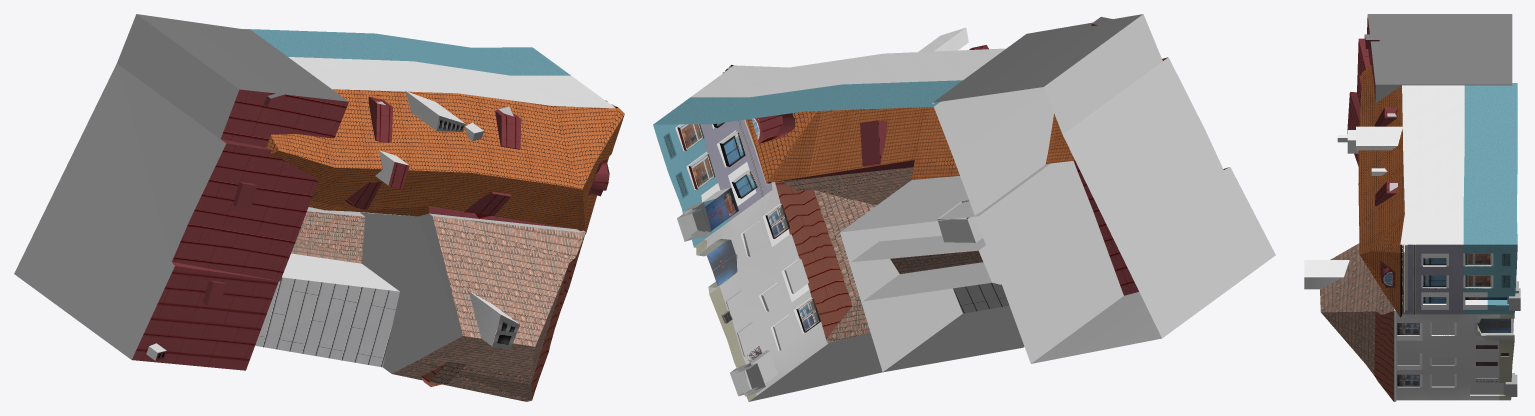
Rendered from Rataskaevu_10-origo.obj.
3 renders of one model, left to right at view 1: azimuth 30°, elevation 25°; view 2: azimuth 150°, elevation 25°; view 3: azimuth 270°, elevation 25°, orthographic. The views are drawn at different scales.
Parts seen in each view (by area): view 1: Rataskaevu_10; view 2: Rataskaevu_10; view 3: Rataskaevu_10.
Boxes of the visible parts, x1,y1,x2,y2 form: Rataskaevu_10: (14,14,624,401); Rataskaevu_10: (653,14,1275,401); Rataskaevu_10: (1304,14,1520,401).
Size of the model in its own units: 37.44 by 27 by 18.79.
